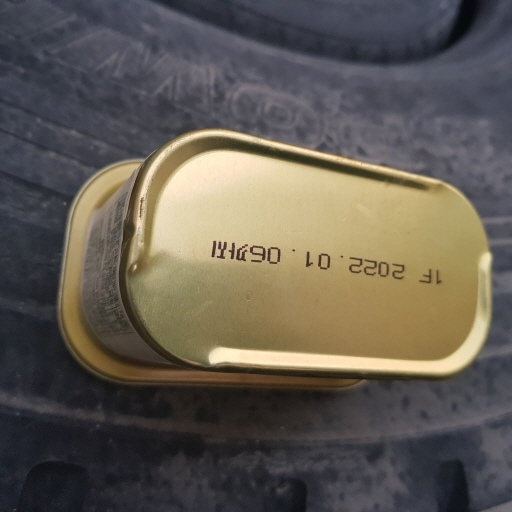Metal_2: (55, 119, 500, 394)
